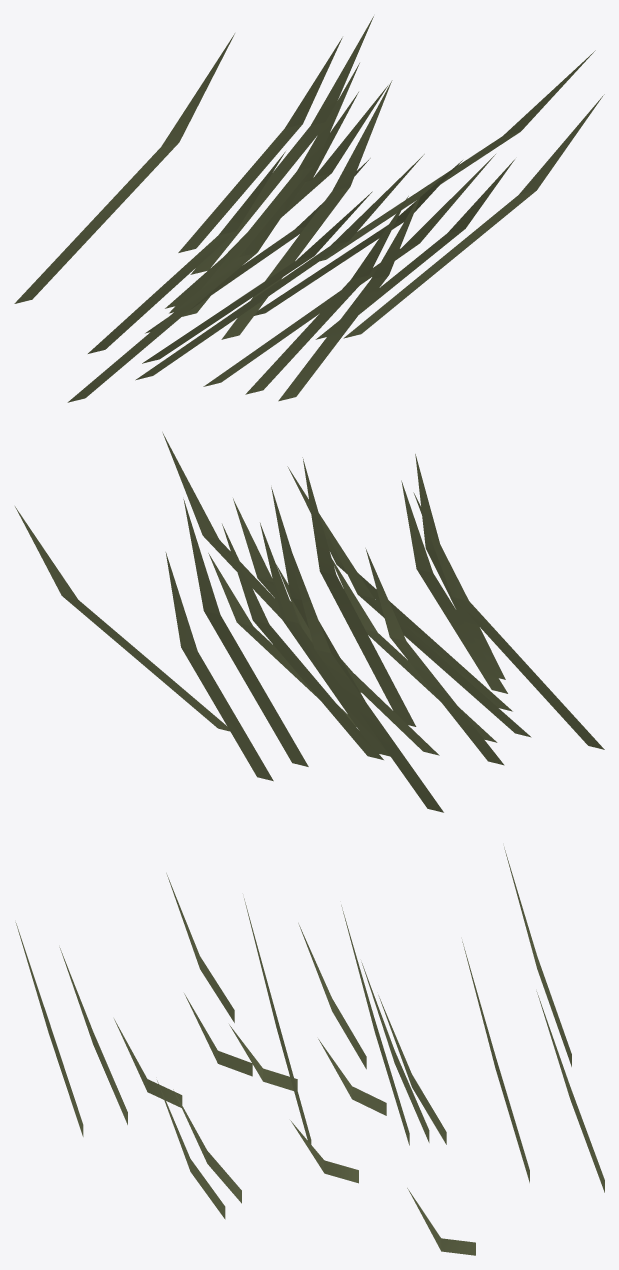
The model's file is iron-grass.glb.
3 renders of one model, top to bottom at view 1: azimuth 30°, elevation 25°; view 2: azimuth 150°, elevation 25°; view 3: azimuth 270°, elevation 25°, orthographic. The views are drawn at different scales.
Parts seen in each view (by area): view 1: Прибрежная овсяница; view 2: Прибрежная овсяница; view 3: Прибрежная овсяница.
Part boxes in pixels (bbox=[...]): Прибрежная овсяница: bbox=[14, 16, 604, 402]; Прибрежная овсяница: bbox=[15, 432, 604, 812]; Прибрежная овсяница: bbox=[15, 847, 604, 1255].
Bounding box in the file's own units: 1.15 × 0.4536 × 0.681.
